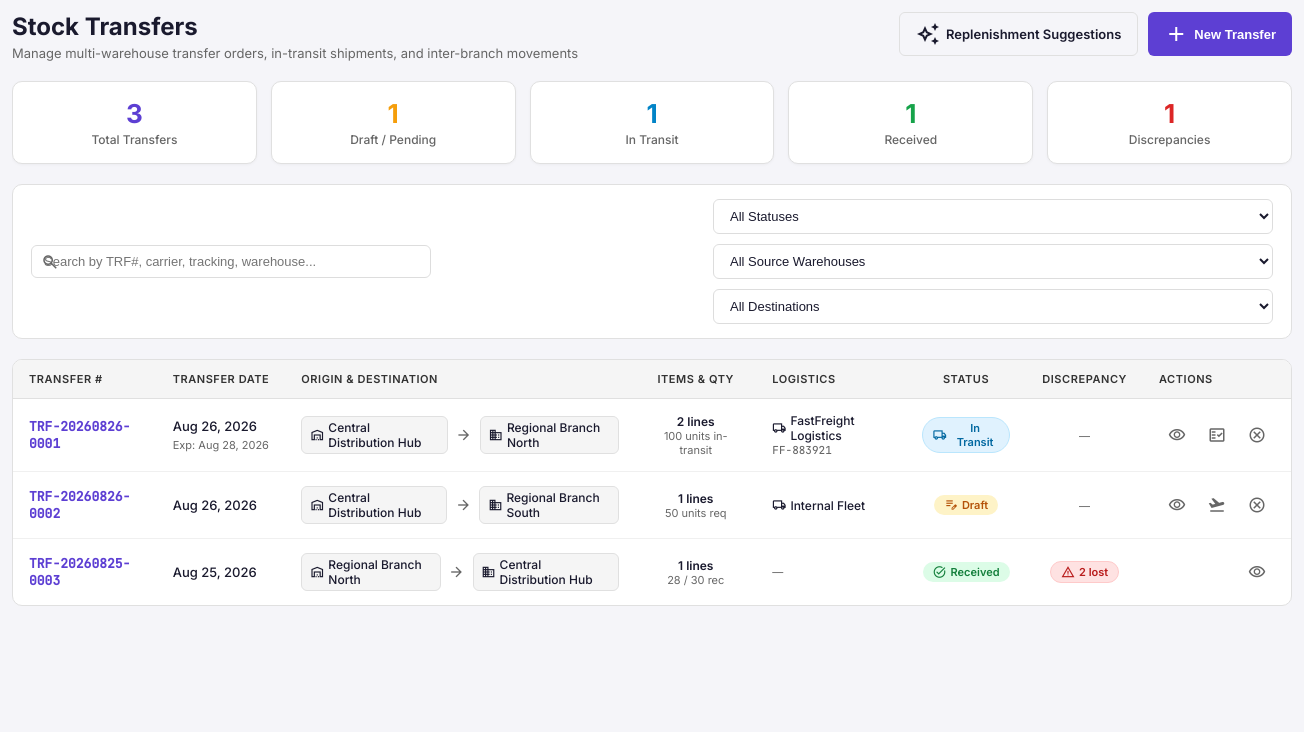
Test: StockTransfersView (Multi-Warehouse Transfers & In-Transit) › filters transfers by status dropdown
The image size is (1304, 732).
Select "In Transit" in the 1st dropdown at (993,216), box [713,199,1273,234]
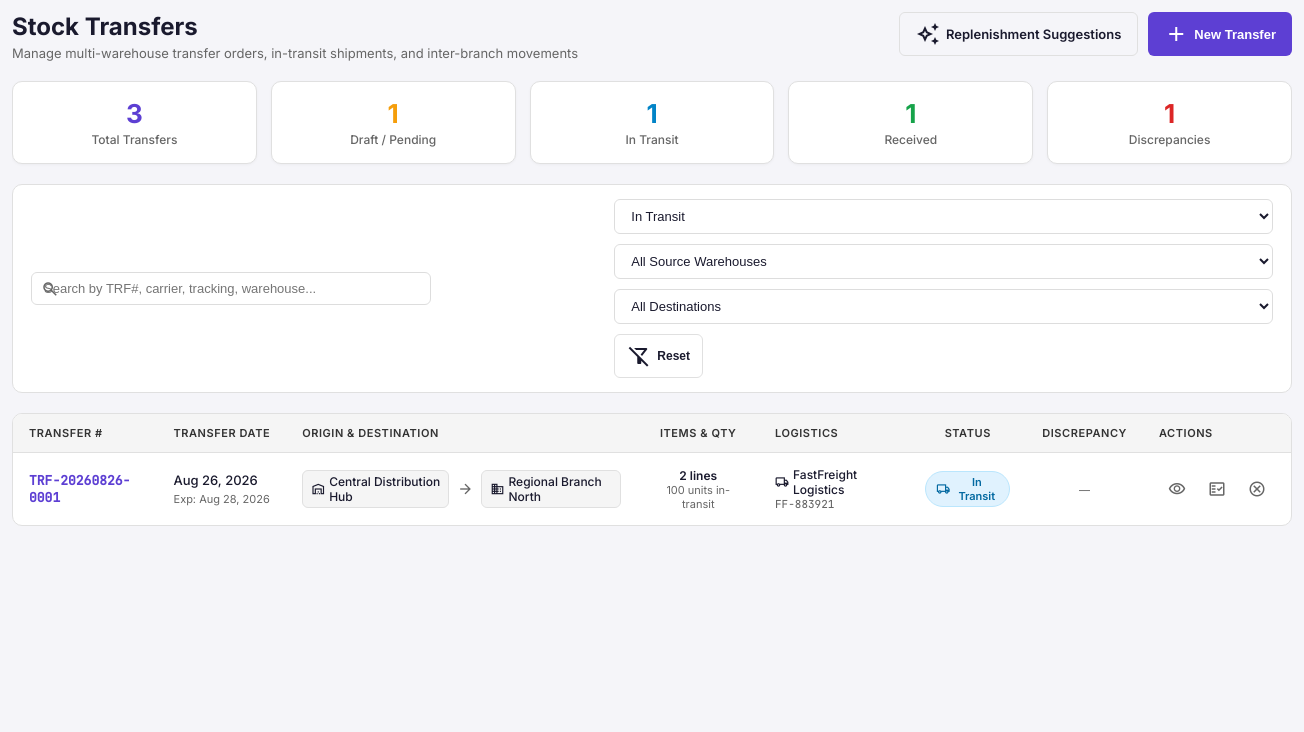
Expected: the text "TRF-20260826-0001" is shown, [29,472,130,506]
Expected: the text "TRF-20260826-0002" is gone
Expected: the text "TRF-20260825-0003" is gone
